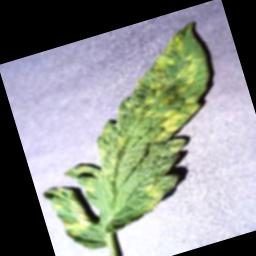Leaf_Mold: (7, 21, 249, 256)
